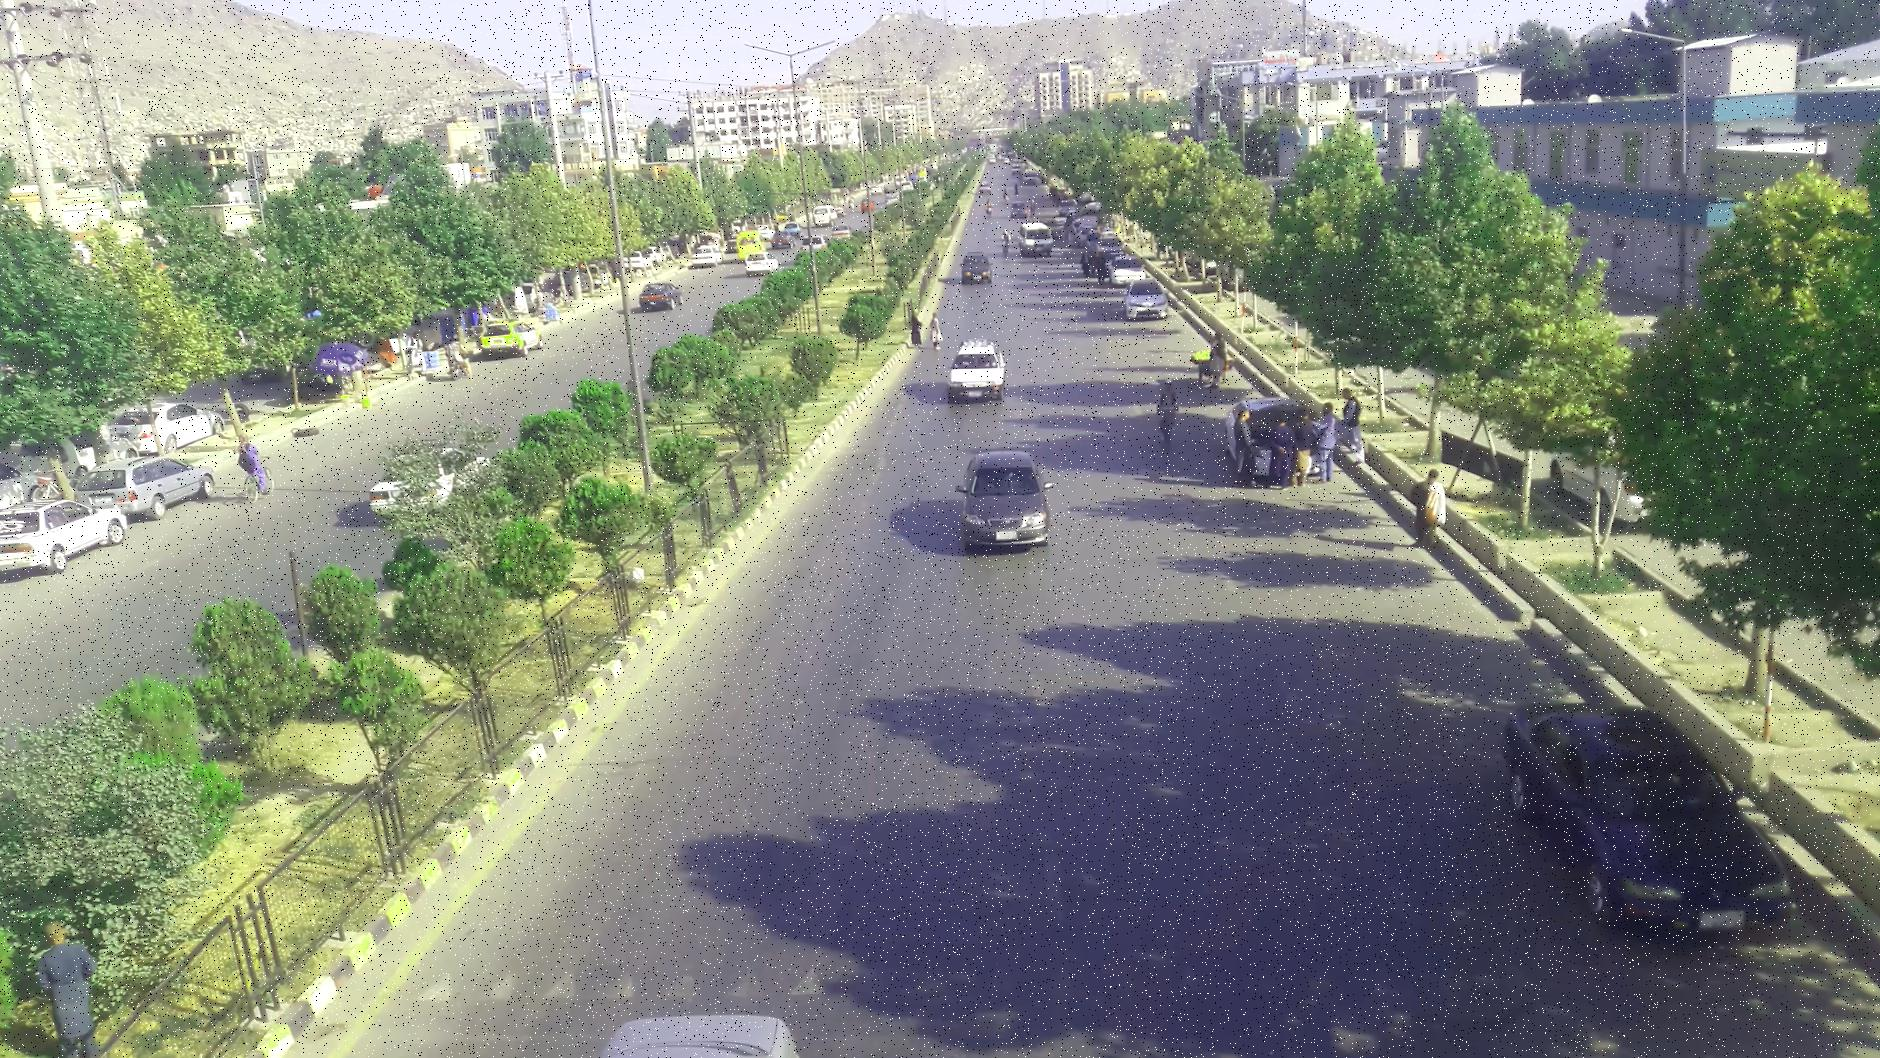bus: (1017, 223, 1055, 254)
car: (1509, 705, 1774, 939), (0, 468, 129, 579), (954, 446, 1046, 552), (67, 459, 210, 524), (944, 346, 1003, 408), (474, 314, 542, 355), (1122, 289, 1170, 322), (631, 287, 683, 314), (962, 249, 994, 283), (1108, 257, 1152, 280)
